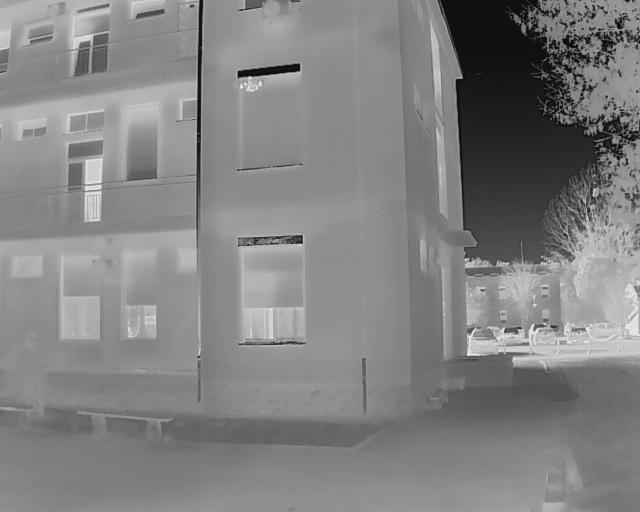drone: (230, 75, 270, 97)
